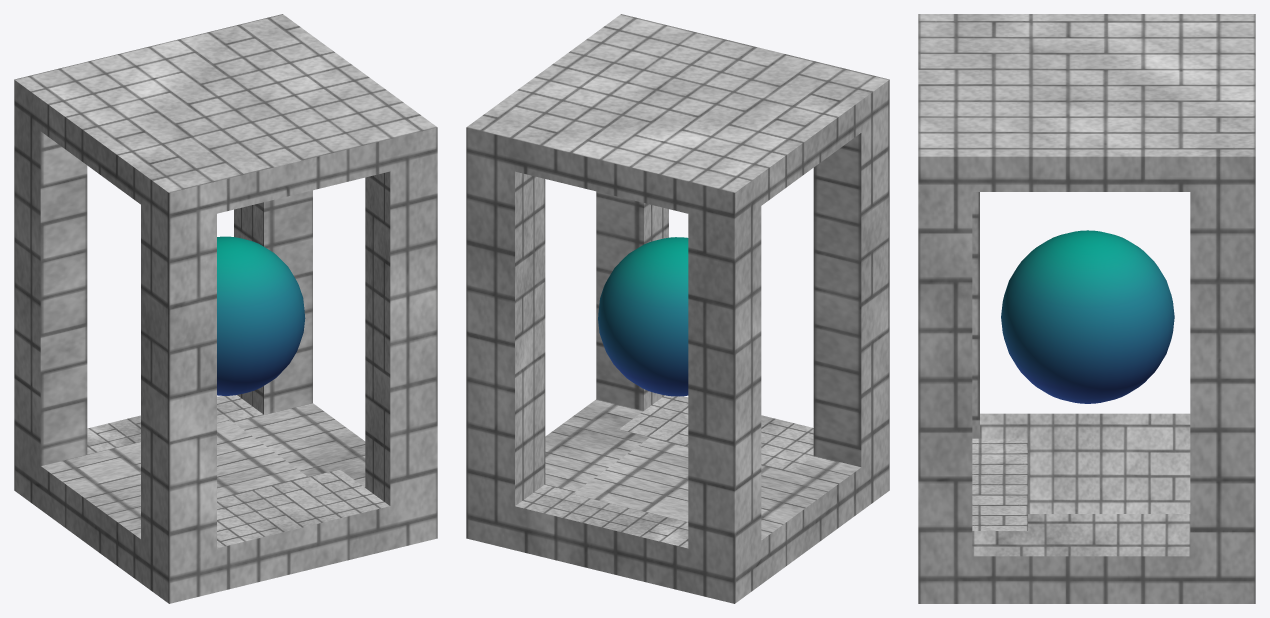
3 renders of one model, left to right at view 1: azimuth 30°, elevation 25°; view 2: azimuth 150°, elevation 25°; view 3: azimuth 270°, elevation 25°, orthographic. The views are drawn at different scales.
Parts seen in each view (by area): view 1: Cube, Sphere; view 2: Cube, Sphere; view 3: Cube, Sphere.
Part boxes in pixels (left/top/right/bottom): Cube: left=14, top=14, right=437, bottom=603; Sphere: left=217, top=236, right=305, bottom=395; Cube: left=466, top=14, right=889, bottom=603; Sphere: left=598, top=237, right=688, bottom=396; Cube: left=918, top=14, right=1255, bottom=603; Sphere: left=1001, top=230, right=1174, bottom=403.
Bounding box in the file's own units: 3.89 × 5.68 × 3.89.
Materials: 2 (2 with a texture image).
